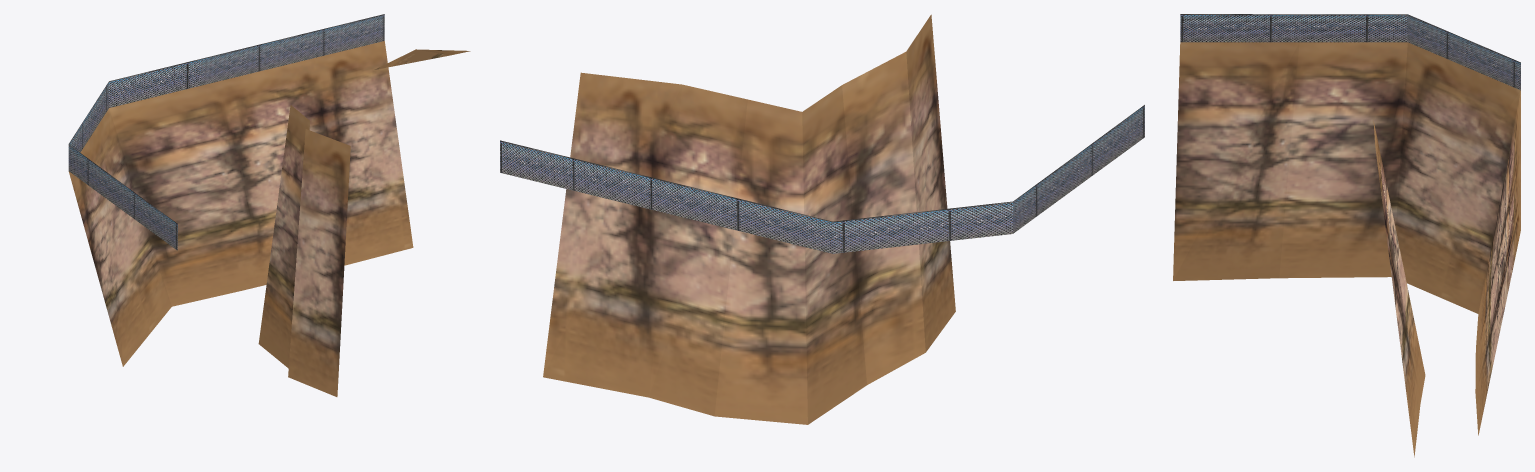
The model's file is area51.glb.
3 views of the same model, side by side, from view 1: azimuth 30°, elevation 25°; view 2: azimuth 150°, elevation 25°; view 3: azimuth 270°, elevation 25° (orthographic). The views are drawn at different scales.
Parts seen in each view (by area): view 1: area51; view 2: area51; view 3: area51.
Part boxes in pixels (x1,y1,x2,y2): area51: [68, 14, 470, 396]; area51: [500, 14, 1144, 424]; area51: [1173, 14, 1520, 457].
Bounding box in the file's own units: 6617 × 4483 × 4958.
4 materials, 4 textured.
